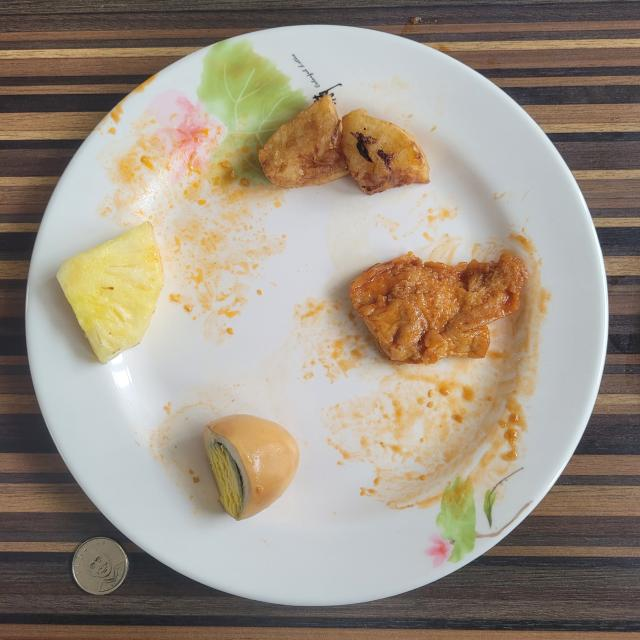coin: (72, 538, 129, 595)
creamy tofu: (350, 252, 528, 364)
fried potato: (259, 94, 429, 195)
pineapple: (56, 221, 164, 364)
soy egg: (204, 415, 299, 520)
